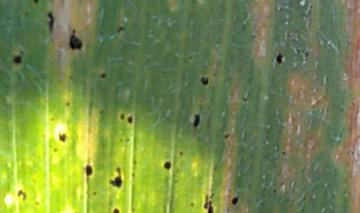tarspot: (65, 26, 86, 53), (108, 165, 124, 190), (44, 8, 58, 35), (203, 192, 216, 213), (190, 112, 201, 130), (11, 55, 24, 69), (85, 162, 93, 182), (16, 188, 27, 202), (274, 49, 283, 66), (56, 131, 68, 143), (199, 75, 209, 88), (229, 195, 240, 206), (126, 113, 135, 126), (116, 24, 126, 35), (162, 161, 173, 170), (221, 131, 230, 141), (99, 71, 108, 79), (284, 30, 292, 39), (18, 47, 25, 57), (23, 8, 31, 16), (111, 206, 120, 213), (118, 111, 125, 120), (278, 149, 286, 156), (64, 100, 71, 108), (303, 50, 309, 59), (124, 136, 131, 143), (189, 200, 195, 208), (250, 32, 256, 40), (33, 200, 40, 206), (67, 73, 73, 80), (241, 96, 248, 102), (32, 1, 41, 5), (177, 150, 183, 156), (92, 189, 97, 196), (51, 146, 58, 151), (272, 187, 277, 194), (99, 108, 104, 114), (279, 181, 284, 186), (118, 137, 123, 142)
